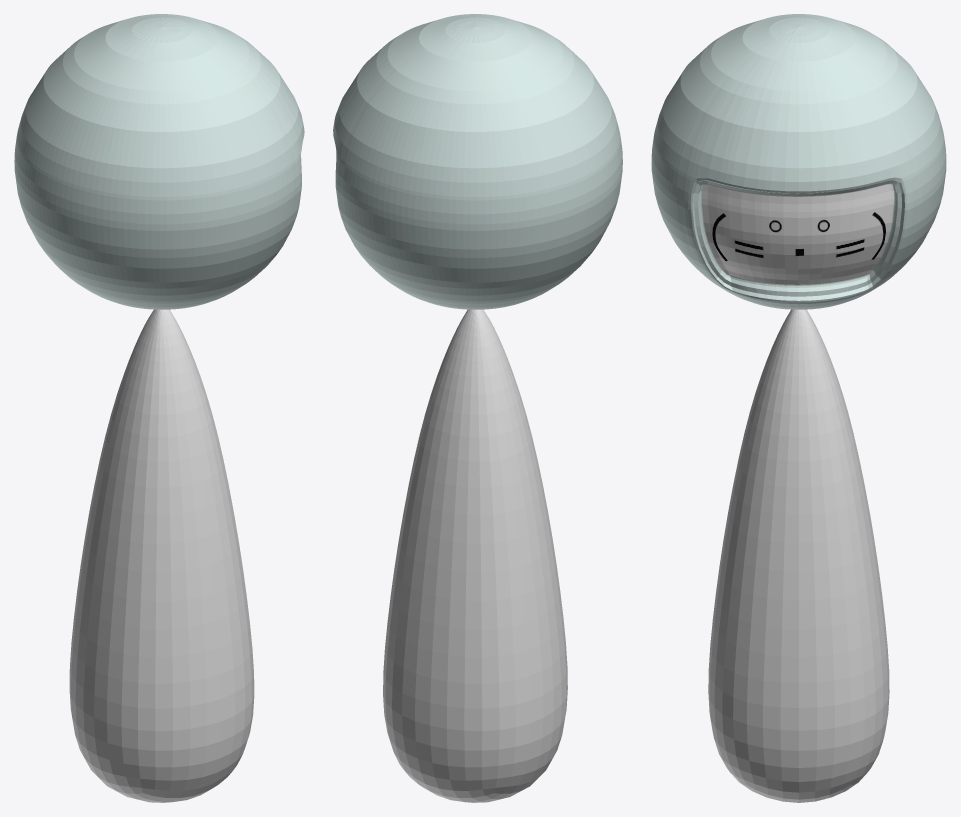
The model's file is Bot.fbx.
The picture shows the model from 3 angles, left to right: view 1: azimuth 30°, elevation 25°; view 2: azimuth 150°, elevation 25°; view 3: azimuth 270°, elevation 25°; orthographic projection.
Parts seen in each view (by area): view 1: CuteFaceModel; view 2: CuteFaceModel; view 3: CuteFaceModel.
Boxes of the visible parts, x1,y1,x2,y2 form: CuteFaceModel: (14,14,304,802); CuteFaceModel: (333,14,622,802); CuteFaceModel: (651,14,946,802).
Bounding box in the file's own units: 42.22 × 123 × 42.99.
